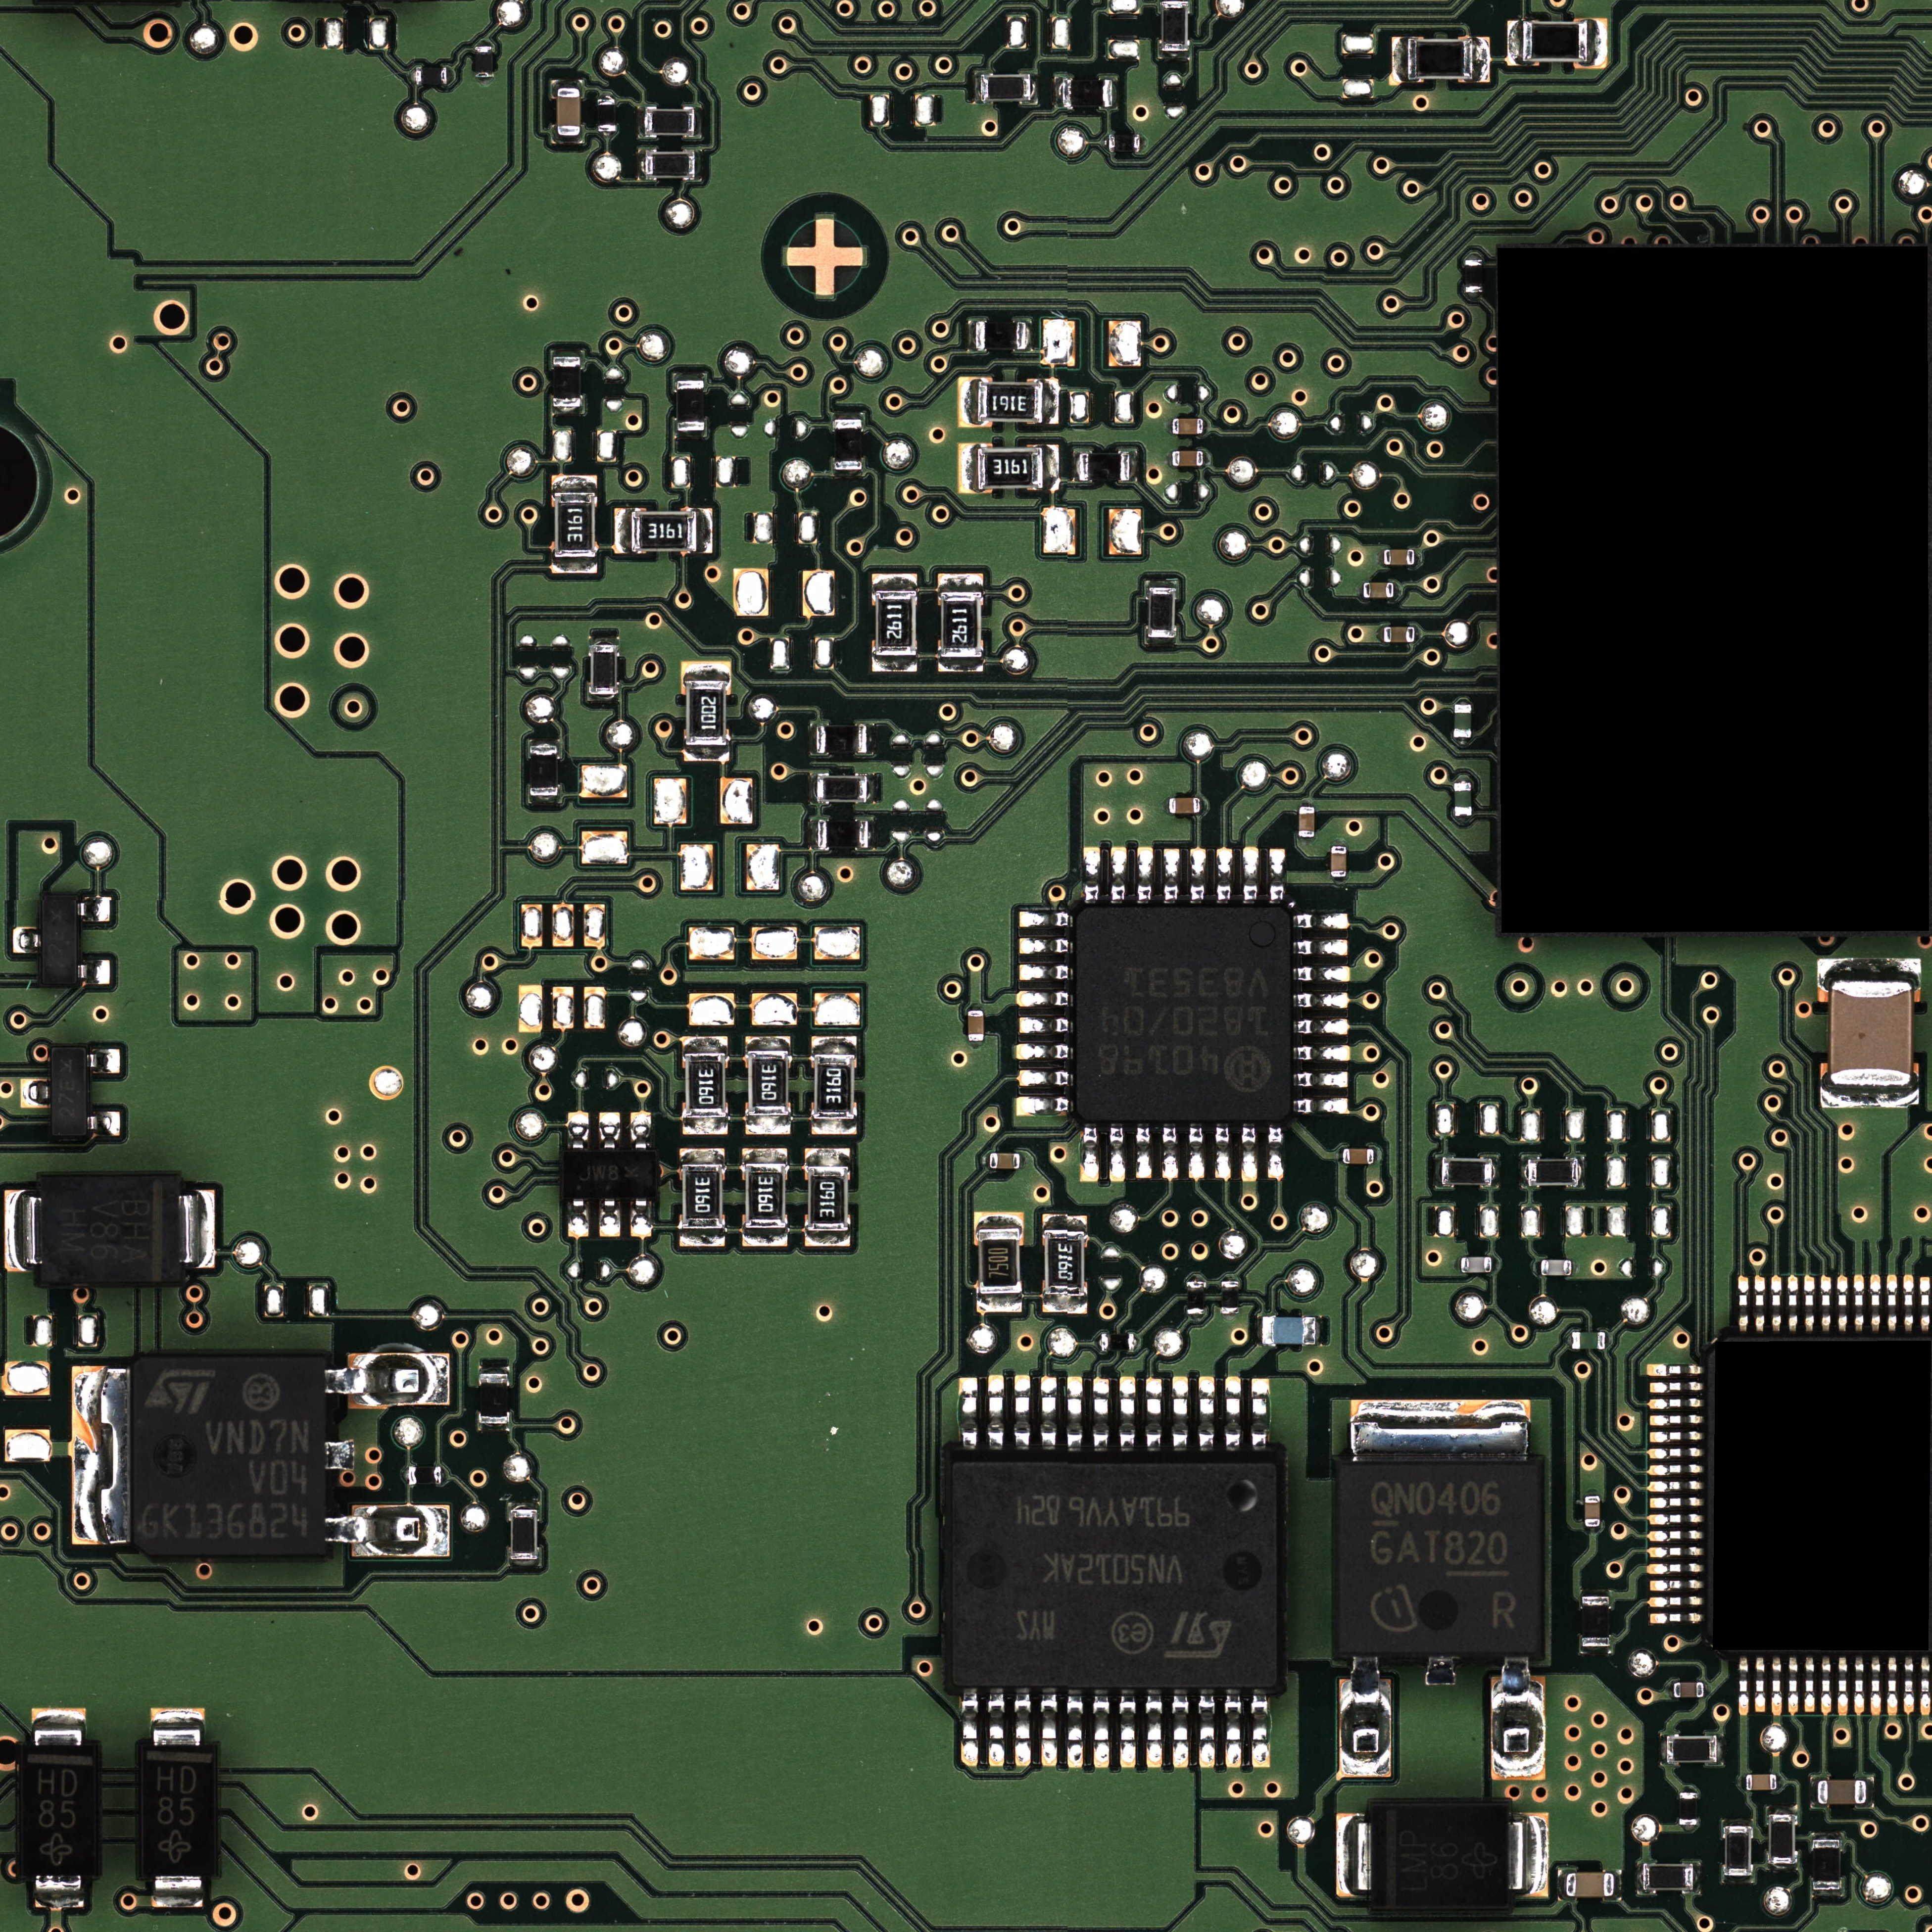Package: (950, 1461, 1277, 1688), (1076, 908, 1290, 1120), (1338, 1463, 1541, 1654), (131, 1359, 326, 1555), (41, 1175, 179, 1283), (1371, 1805, 1507, 1909), (19, 1746, 97, 1875), (142, 1746, 218, 1875), (1828, 980, 1914, 1085), (563, 1150, 656, 1200), (50, 1046, 87, 1138), (41, 895, 78, 985), (681, 1164, 724, 1230), (941, 591, 982, 658), (554, 492, 594, 557), (686, 679, 727, 745), (807, 1166, 847, 1231), (685, 1053, 725, 1118), (978, 1228, 1019, 1293), (874, 589, 915, 655), (814, 1054, 855, 1118), (748, 1051, 789, 1115), (745, 1164, 786, 1228), (978, 382, 1042, 423), (978, 448, 1042, 488), (1523, 21, 1587, 62), (1408, 39, 1472, 80), (1044, 1231, 1085, 1295), (632, 511, 695, 550), (1261, 1316, 1316, 1345), (817, 821, 869, 849), (975, 322, 1026, 350), (529, 747, 557, 796), (817, 725, 867, 754), (552, 357, 580, 407), (676, 380, 704, 430), (479, 1373, 508, 1422), (1079, 453, 1129, 481), (1582, 1596, 1610, 1645), (1644, 1863, 1693, 1891), (646, 108, 694, 136), (817, 775, 867, 801), (835, 419, 862, 469), (511, 1509, 538, 1559), (1148, 587, 1175, 637), (1062, 80, 1111, 106), (980, 74, 1030, 101), (1813, 1840, 1840, 1890), (1667, 1736, 1716, 1762), (1529, 1159, 1578, 1185), (1725, 1826, 1752, 1875), (1442, 1159, 1491, 1185), (646, 150, 694, 177), (1769, 1815, 1796, 1863), (591, 644, 616, 694), (1817, 1780, 1867, 1805), (1162, 2, 1187, 51), (1566, 1872, 1614, 1897), (557, 88, 580, 136), (414, 65, 448, 85), (1100, 1332, 1134, 1352), (474, 46, 494, 78), (1454, 704, 1472, 738), (1454, 782, 1472, 816), (1571, 1332, 1605, 1350), (1187, 1281, 1205, 1315), (598, 99, 616, 131), (409, 1467, 441, 1484), (1465, 260, 1483, 292), (1679, 1792, 1697, 1824), (1221, 1281, 1238, 1313), (1109, 134, 1139, 152), (1384, 626, 1415, 642), (1330, 846, 1346, 878), (1585, 1495, 1601, 1527), (968, 1010, 984, 1040), (1169, 798, 1200, 814), (1384, 550, 1414, 566), (1364, 582, 1394, 598), (1299, 807, 1315, 837), (1173, 418, 1203, 433), (1674, 1683, 1704, 1698), (1461, 1256, 1491, 1272), (1746, 1775, 1776, 1790), (1541, 1260, 1571, 1276), (989, 1154, 1019, 1169), (1343, 1148, 1373, 1164), (1173, 451, 1203, 465)
Solder: (1352, 1399, 1530, 1465), (71, 1366, 131, 1545), (326, 1353, 449, 1408), (1490, 1656, 1545, 1778), (326, 1504, 449, 1557), (1338, 1658, 1392, 1776), (1507, 1812, 1548, 1898), (4, 1191, 41, 1272), (1336, 1813, 1371, 1898), (180, 1191, 216, 1269), (1819, 957, 1921, 980), (150, 1707, 205, 1746), (32, 1707, 87, 1746), (1821, 1088, 1920, 1108), (150, 1875, 203, 1907), (34, 1877, 85, 1909), (1251, 1690, 1270, 1769), (1251, 1376, 1270, 1453), (959, 1376, 978, 1451), (961, 1686, 978, 1767), (1224, 1688, 1242, 1769), (1198, 1688, 1215, 1767), (1040, 1688, 1058, 1767), (1224, 1375, 1242, 1453), (1198, 1375, 1215, 1453), (987, 1690, 1005, 1767), (1014, 1690, 1031, 1767), (987, 1375, 1005, 1451), (1145, 1376, 1162, 1453), (1014, 1375, 1031, 1451), (1146, 1688, 1162, 1769), (1067, 1688, 1083, 1769), (1093, 1688, 1109, 1769), (1173, 1688, 1189, 1767), (1120, 1688, 1136, 1767), (1067, 1376, 1083, 1453), (1093, 1376, 1109, 1453), (1040, 1375, 1056, 1451), (1173, 1376, 1189, 1451), (1120, 1376, 1136, 1451), (1016, 1097, 1072, 1116), (1083, 846, 1100, 904), (1081, 1123, 1099, 1182), (1293, 913, 1350, 931), (1293, 1097, 1350, 1115), (1111, 846, 1127, 904), (1215, 1123, 1231, 1182), (1267, 1123, 1283, 1182), (1109, 1123, 1125, 1182), (1242, 1123, 1258, 1182), (959, 377, 977, 428), (1138, 847, 1154, 904), (1242, 846, 1258, 902), (1136, 1123, 1152, 1180), (1293, 1046, 1350, 1062), (1189, 1123, 1205, 1180), (1293, 966, 1350, 982), (1016, 1070, 1072, 1086), (1293, 993, 1350, 1008), (1293, 1019, 1350, 1035), (1016, 1044, 1072, 1060), (1162, 1123, 1178, 1180), (1426, 1656, 1458, 1684), (741, 1228, 787, 1247), (959, 444, 977, 494), (1293, 939, 1348, 955), (1164, 849, 1180, 904), (1293, 1072, 1348, 1088), (1017, 991, 1072, 1007), (21, 1077, 50, 1108), (681, 1035, 729, 1053), (1019, 911, 1072, 927), (1019, 938, 1072, 954), (1019, 1017, 1072, 1033), (1019, 964, 1072, 980), (568, 1111, 589, 1150), (630, 1198, 651, 1237), (600, 1198, 621, 1237), (872, 573, 918, 591), (679, 1230, 725, 1247), (805, 1148, 851, 1166), (745, 1116, 791, 1134), (810, 1037, 856, 1054), (1042, 1295, 1088, 1313), (1587, 19, 1605, 65), (326, 1442, 354, 1470), (1270, 847, 1284, 904), (1191, 847, 1205, 904), (1217, 847, 1231, 904), (78, 897, 110, 922), (88, 1111, 120, 1136), (88, 1049, 120, 1074), (78, 959, 110, 984), (630, 1113, 651, 1150), (568, 1200, 589, 1237), (938, 573, 982, 591), (550, 476, 598, 492), (683, 665, 731, 681), (12, 927, 41, 954), (614, 508, 630, 554), (552, 557, 598, 573), (697, 508, 713, 554), (872, 656, 918, 672), (745, 1035, 791, 1051), (679, 1148, 725, 1164), (1391, 37, 1407, 83), (977, 1295, 1023, 1311), (600, 1113, 619, 1150), (685, 745, 729, 761), (683, 1118, 727, 1134), (1474, 37, 1490, 81), (1647, 1398, 1704, 1410), (1649, 1596, 1704, 1608), (1647, 1364, 1702, 1376), (1647, 1447, 1702, 1460), (1044, 444, 1058, 492), (1651, 1612, 1704, 1624), (805, 1231, 851, 1246), (810, 1120, 856, 1134), (741, 1148, 787, 1162), (1044, 379, 1058, 425), (1920, 1656, 1930, 1716), (1904, 1656, 1914, 1716), (1886, 1656, 1897, 1716), (1870, 1656, 1881, 1716), (1854, 1656, 1865, 1716), (1821, 1656, 1831, 1716), (1789, 1656, 1799, 1716), (1755, 1656, 1766, 1716), (938, 658, 982, 672), (1507, 21, 1522, 65), (1805, 1656, 1815, 1714), (1771, 1656, 1782, 1714), (1647, 1530, 1704, 1541), (1649, 1580, 1704, 1591), (1649, 1564, 1704, 1575), (1649, 1546, 1704, 1557), (1647, 1382, 1702, 1392), (1649, 1431, 1704, 1442), (1649, 1465, 1704, 1476), (1649, 1481, 1704, 1491), (1771, 1276, 1782, 1330), (1787, 1276, 1798, 1330), (1805, 1276, 1815, 1330), (1821, 1276, 1831, 1330), (1920, 1276, 1930, 1330), (1886, 1276, 1897, 1330), (1870, 1276, 1881, 1330), (1042, 1215, 1088, 1228), (977, 1214, 1023, 1226), (1649, 1497, 1702, 1507), (1649, 1513, 1702, 1523), (1649, 1415, 1702, 1426), (1838, 1656, 1847, 1714), (1739, 1656, 1748, 1714), (1739, 1276, 1748, 1330), (1755, 1276, 1764, 1330), (1838, 1276, 1847, 1330), (1854, 1276, 1863, 1330), (1904, 1276, 1913, 1330), (552, 405, 584, 416), (970, 73, 980, 103), (550, 136, 586, 145), (1072, 448, 1081, 483), (550, 80, 584, 88), (694, 104, 702, 138), (527, 796, 561, 805), (1024, 318, 1033, 352), (674, 430, 708, 439), (809, 724, 817, 755), (508, 1500, 540, 1509), (1145, 637, 1177, 646), (1433, 1155, 1442, 1187), (1693, 1861, 1702, 1893), (867, 819, 876, 849), (1031, 73, 1040, 103), (1520, 1157, 1529, 1187), (1491, 1157, 1500, 1187), (1723, 1875, 1753, 1884), (1767, 1805, 1798, 1813), (1812, 1831, 1842, 1840), (1614, 1870, 1622, 1900), (672, 373, 708, 380), (586, 695, 621, 702), (1131, 448, 1138, 483), (1161, 51, 1189, 60), (550, 349, 584, 356), (832, 412, 865, 419), (527, 740, 561, 747), (1145, 580, 1178, 587), (637, 106, 644, 138), (968, 320, 975, 352), (695, 149, 702, 180), (832, 471, 863, 478), (810, 819, 817, 851), (867, 724, 874, 755), (478, 1366, 510, 1373), (478, 1424, 510, 1431), (1867, 1776, 1874, 1808), (637, 150, 644, 180), (589, 637, 619, 644), (810, 773, 817, 803), (867, 773, 874, 803), (510, 1560, 540, 1568), (1111, 78, 1118, 108), (1054, 78, 1062, 108), (1256, 1316, 1263, 1346), (1315, 1316, 1322, 1346), (1578, 1157, 1585, 1187), (1716, 1734, 1723, 1764), (1810, 1776, 1817, 1806), (1812, 1890, 1842, 1897), (1559, 1870, 1566, 1900), (1723, 1819, 1753, 1826), (1660, 1734, 1667, 1764), (1767, 1865, 1798, 1872), (1491, 1254, 1502, 1274), (448, 65, 456, 87), (441, 1465, 449, 1484), (476, 78, 495, 87), (596, 90, 616, 99), (1353, 582, 1364, 598), (1580, 1647, 1612, 1652), (1637, 1863, 1642, 1893), (1580, 1591, 1610, 1596), (1299, 837, 1316, 846), (1019, 1152, 1028, 1169), (982, 1152, 991, 1169), (1373, 1146, 1382, 1164), (1465, 251, 1483, 260), (1465, 292, 1483, 301), (1454, 738, 1472, 747), (1454, 816, 1472, 824), (1532, 1260, 1541, 1277), (1453, 1256, 1461, 1274), (1704, 1681, 1713, 1698), (1665, 1681, 1674, 1698), (1185, 1315, 1207, 1322), (1164, 451, 1173, 467), (1375, 626, 1384, 642), (1414, 626, 1422, 642), (1200, 798, 1208, 814), (1299, 798, 1315, 807), (1414, 550, 1422, 566), (1161, 798, 1169, 814), (1571, 1260, 1580, 1276), (1737, 1775, 1746, 1790), (1776, 1775, 1785, 1790), (474, 39, 494, 46), (402, 1465, 409, 1484), (598, 133, 617, 140), (1185, 1274, 1205, 1281), (1566, 1330, 1573, 1350), (1203, 418, 1210, 435), (1164, 418, 1171, 435), (1394, 582, 1401, 600), (1376, 548, 1384, 566), (966, 1003, 984, 1010), (1221, 1315, 1238, 1322), (1336, 1146, 1343, 1164), (1221, 1274, 1238, 1281), (1454, 775, 1472, 782), (1454, 697, 1472, 704), (1605, 1332, 1612, 1350), (1679, 1826, 1697, 1833), (1679, 1785, 1697, 1792), (1583, 1527, 1601, 1534), (1583, 1488, 1601, 1495), (1203, 451, 1210, 467), (1330, 839, 1346, 846), (1330, 878, 1346, 885), (968, 1042, 984, 1049), (1134, 1334, 1141, 1350), (409, 67, 414, 85), (1102, 134, 1108, 152), (1141, 136, 1146, 152), (1095, 1336, 1100, 1350)
